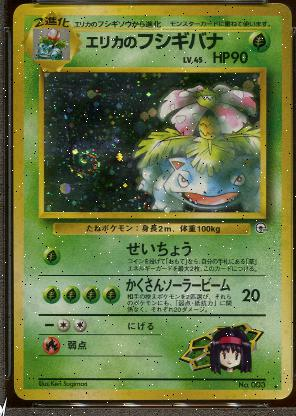Card: (9, 2, 293, 402)
Corner Wear: (268, 2, 290, 16)
